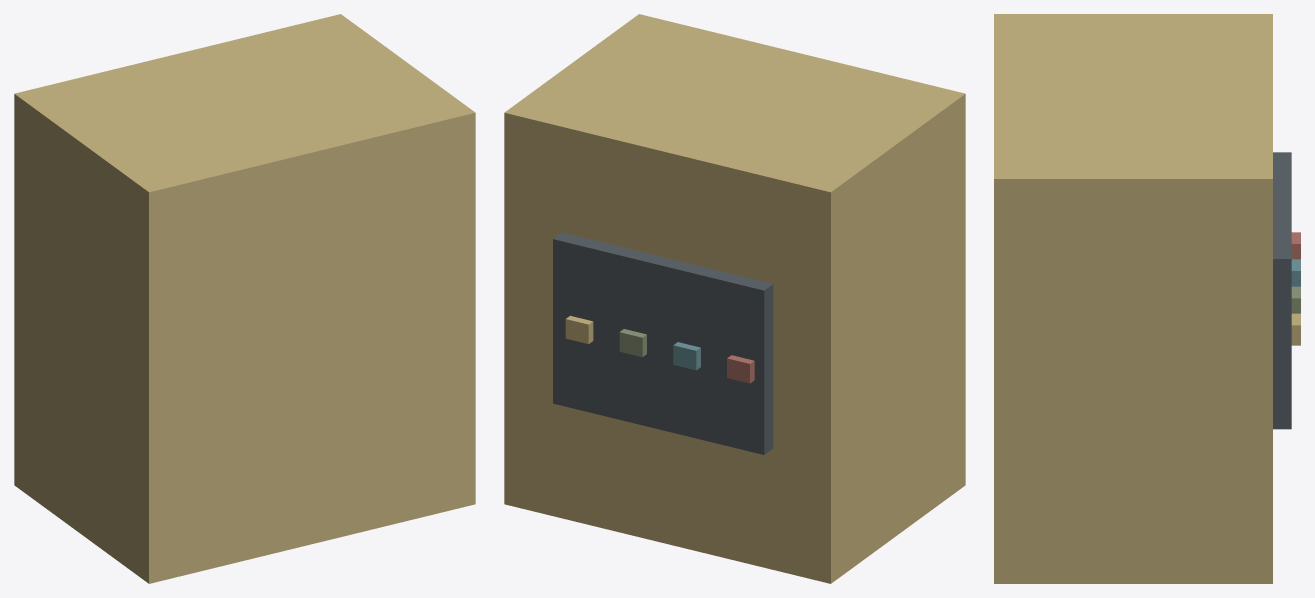
File: iz2_radio_repeater.glb
The picture shows the model from 3 angles, left to right: view 1: azimuth 30°, elevation 25°; view 2: azimuth 150°, elevation 25°; view 3: azimuth 270°, elevation 25°; orthographic projection. The views are drawn at different scales.
Visible parts, largest first — view 1: body; view 2: body; view 3: body.
Boxes of the visible parts, box(x1,y1,x2,y2) form: body: box(14, 14, 475, 583); body: box(504, 14, 965, 583); body: box(994, 14, 1300, 583).
Size of the model in its own units: 0.8684 by 0.995 by 0.6831.
